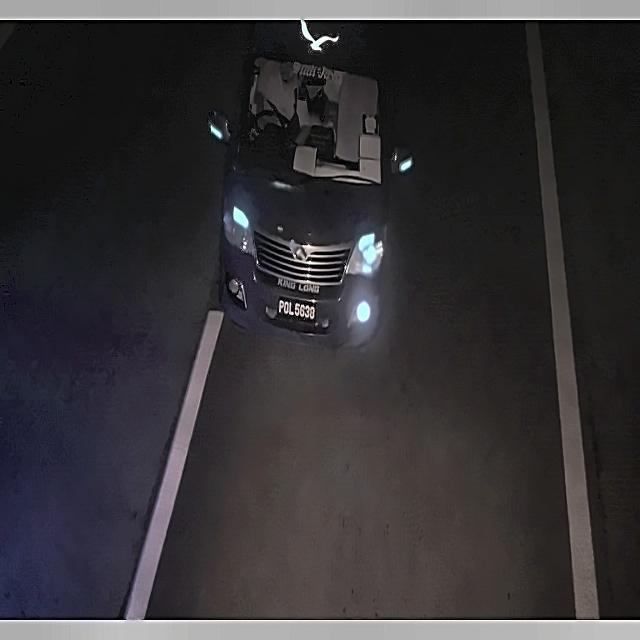car: (273, 289, 321, 330)
